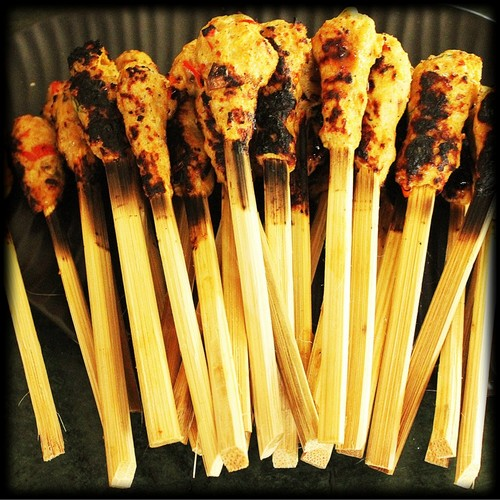sate languan: (316, 13, 494, 187), (175, 14, 309, 205), (67, 35, 177, 210)
